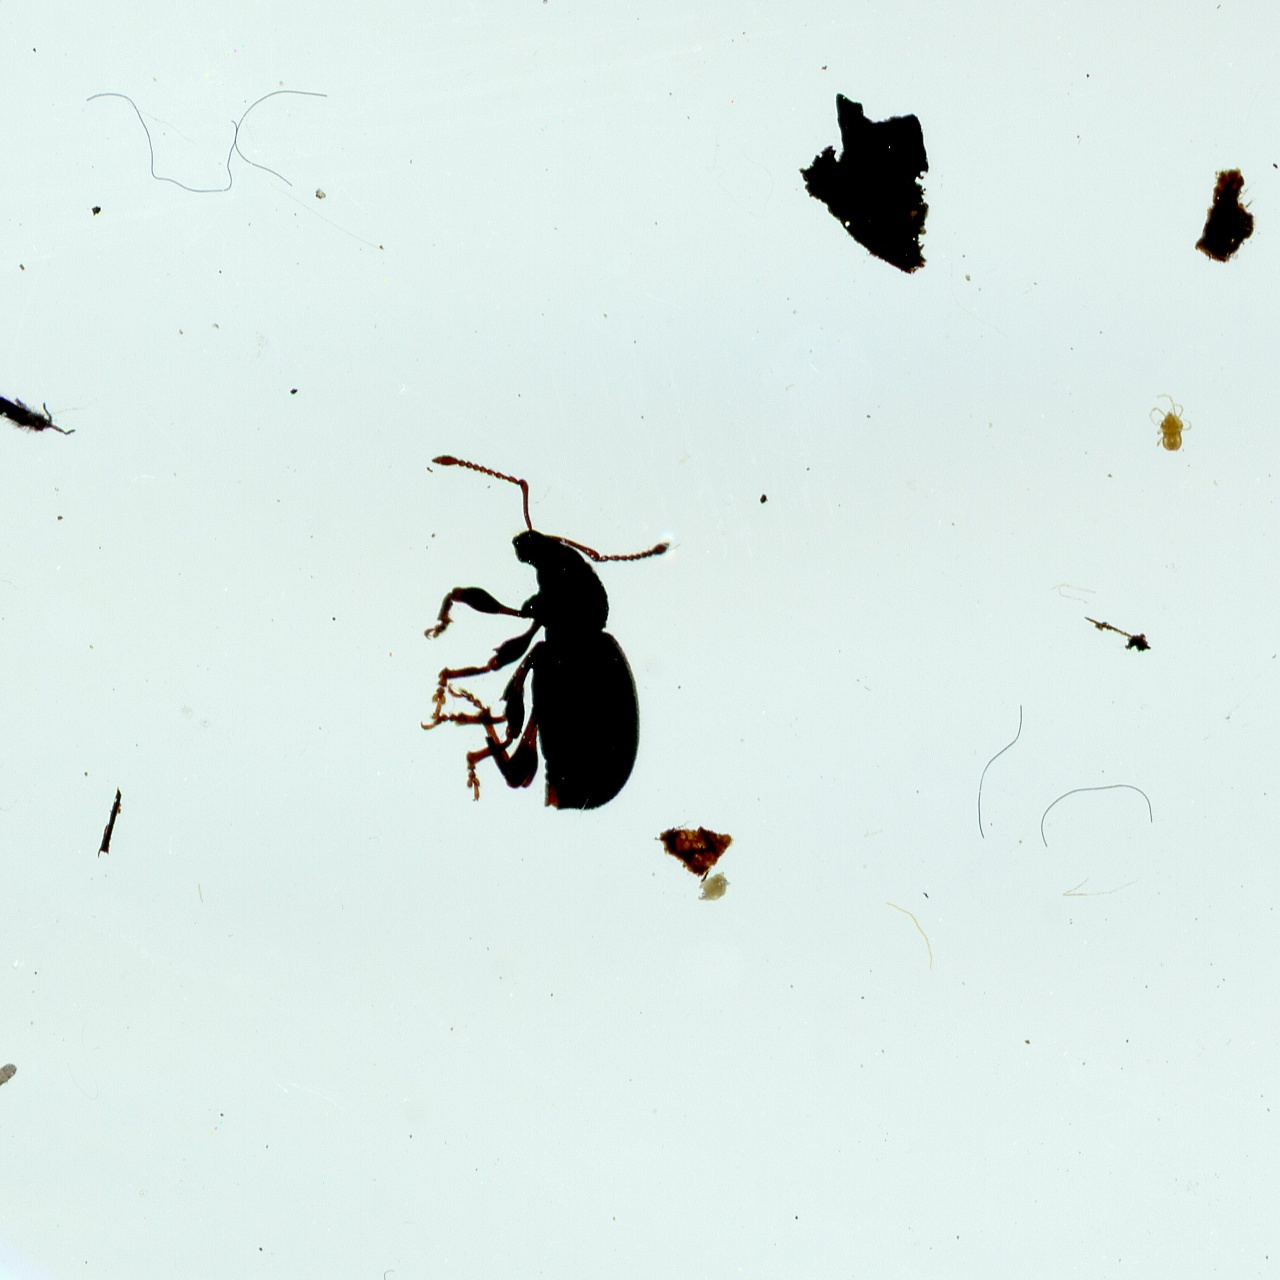arthropod: (415, 448, 680, 821), (0, 380, 80, 448), (1146, 392, 1194, 455), (0, 1058, 22, 1104)
